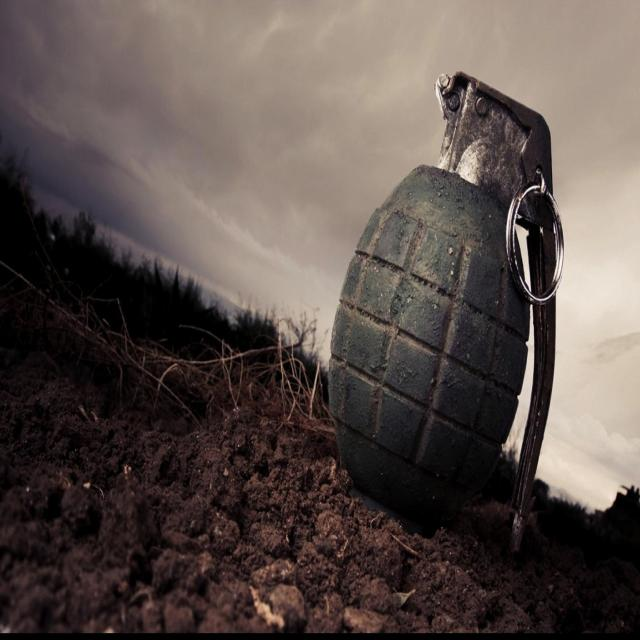grenade: (329, 73, 565, 551)
